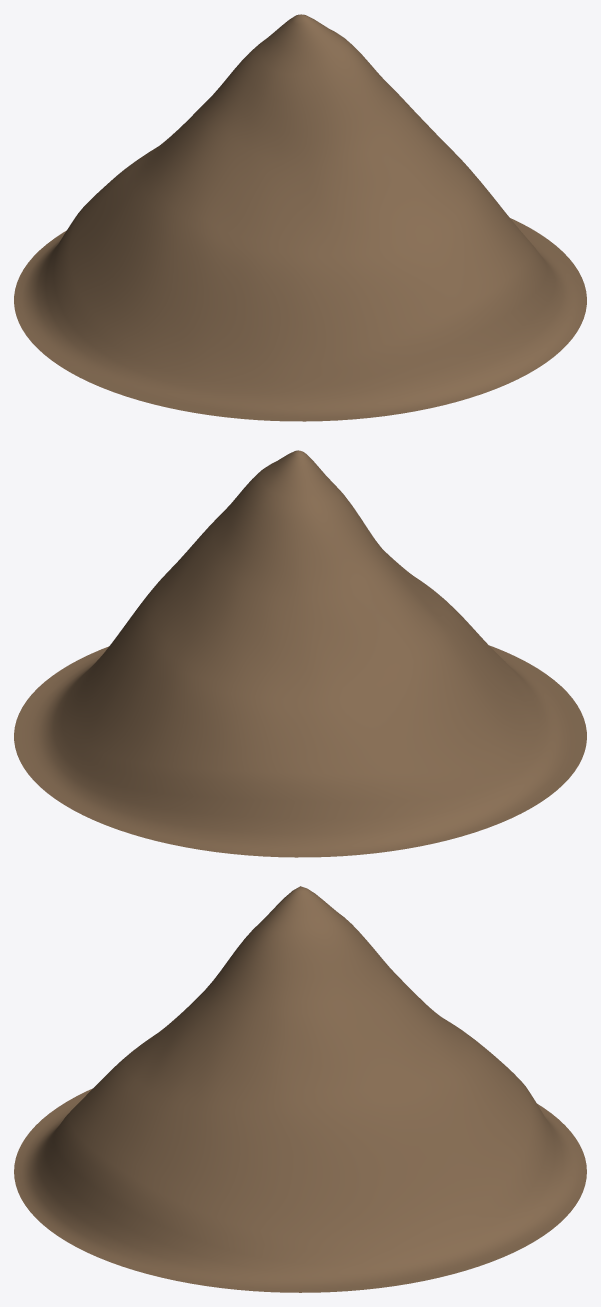
File: hill-v4.5.glb
The picture shows the model from 3 angles, top to bottom: view 1: azimuth 30°, elevation 25°; view 2: azimuth 150°, elevation 25°; view 3: azimuth 270°, elevation 25°; orthographic projection.
Parts seen in each view (by area): view 1: hill_v4_5; view 2: hill_v4_5; view 3: hill_v4_5.
Part boxes in pixels (x1,y1,x2,y2): hill_v4_5: (14,14,586,421); hill_v4_5: (14,450,586,857); hill_v4_5: (14,886,586,1292).
Size of the model in its own units: 2 by 1.1 by 2.
